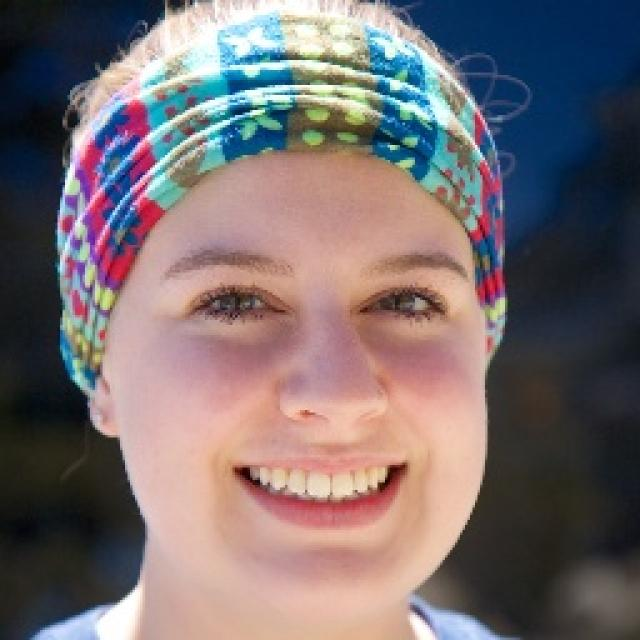earlobe: (87, 391, 121, 438)
eye: (195, 286, 277, 325), (370, 284, 442, 322)
nose: (290, 417, 373, 452)
